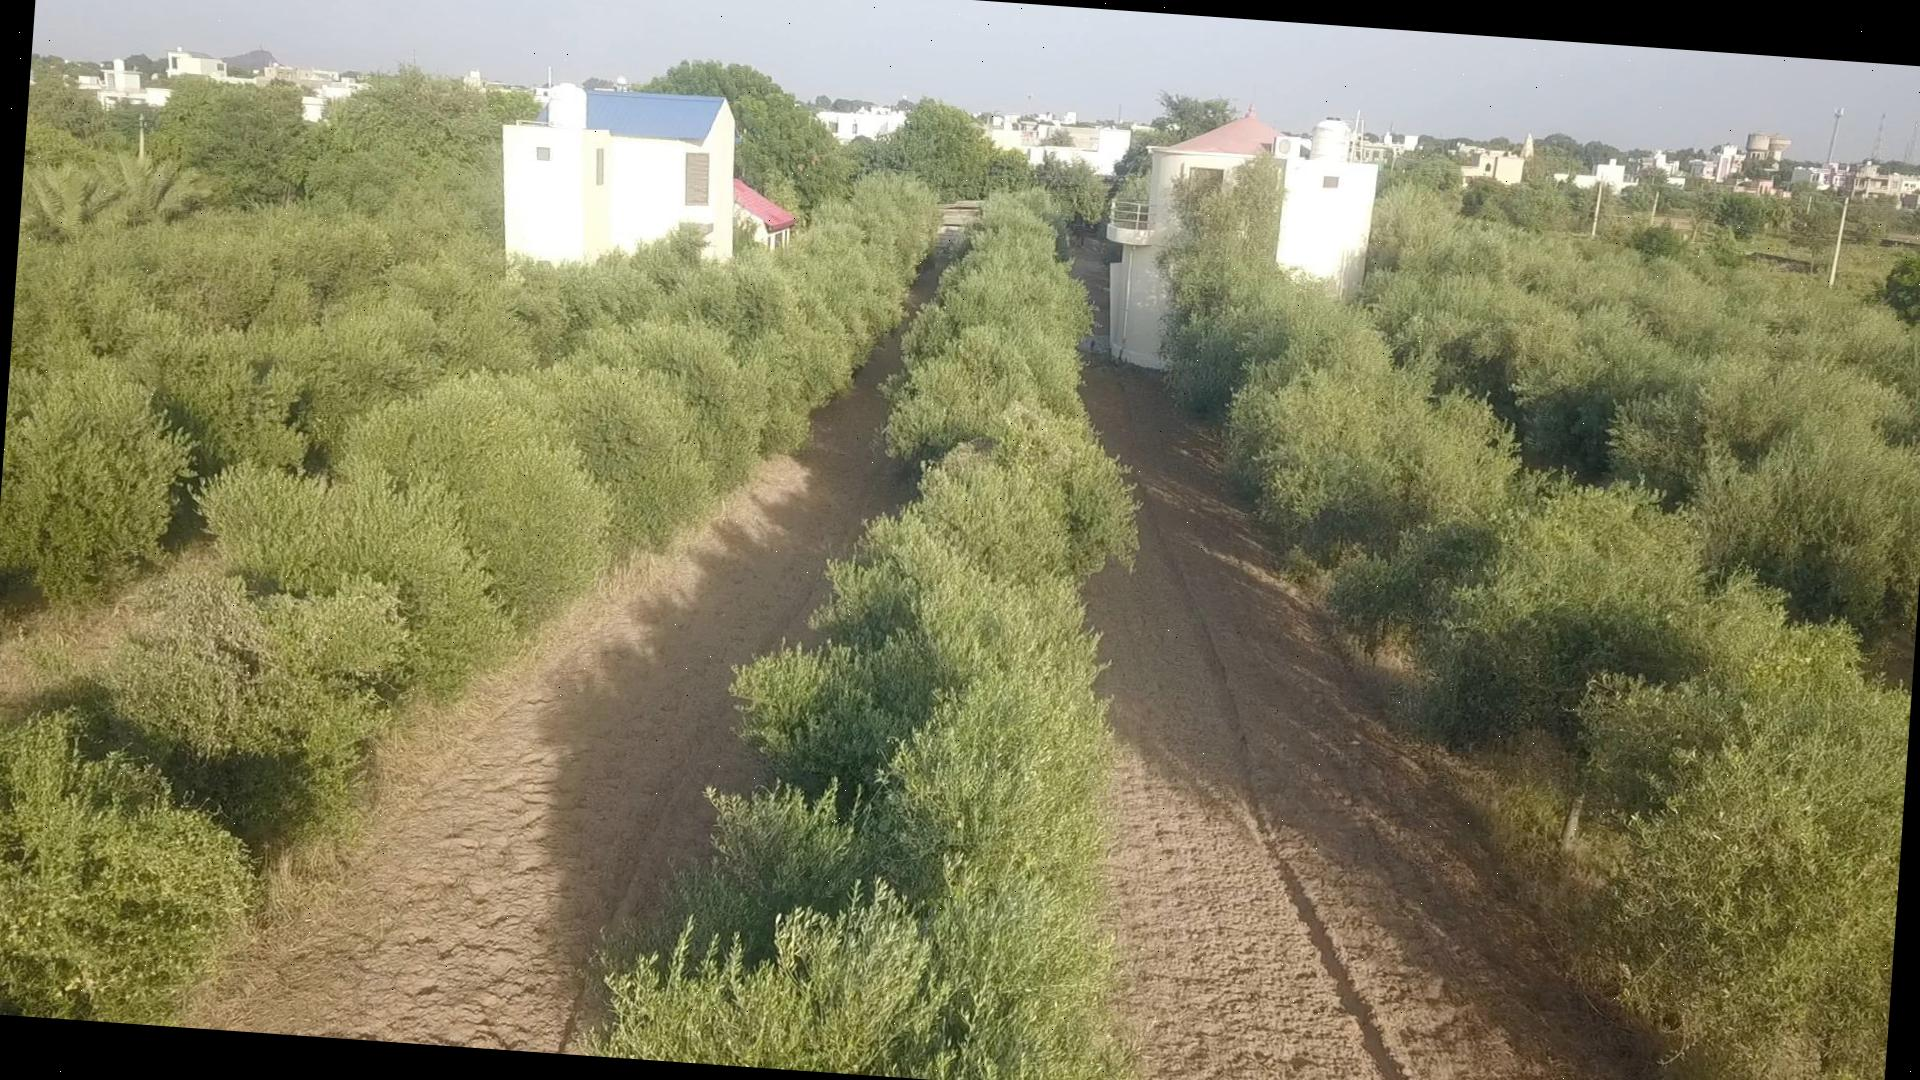canopy: (0, 177, 936, 1019), (1184, 272, 1911, 1080), (596, 195, 1139, 1080), (0, 219, 744, 599)
road: (203, 347, 895, 1050), (1083, 365, 1636, 1080)
